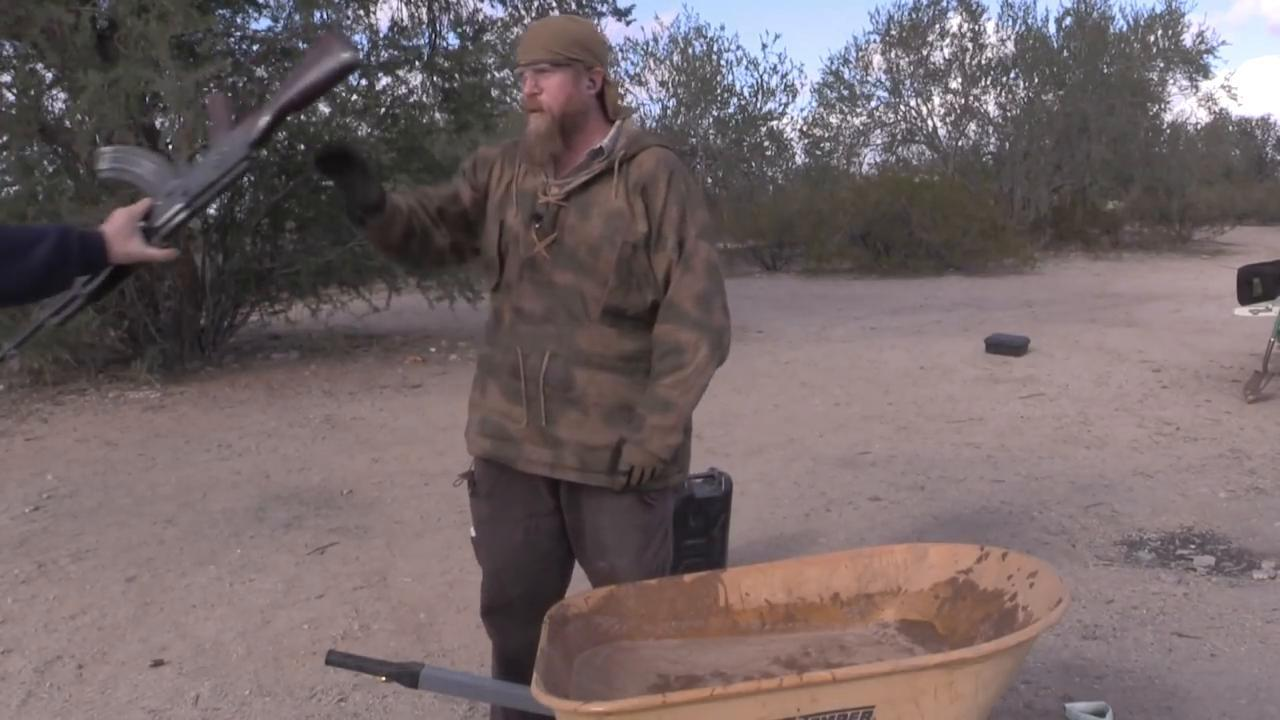AK47 Rifle: (1, 25, 363, 357)
